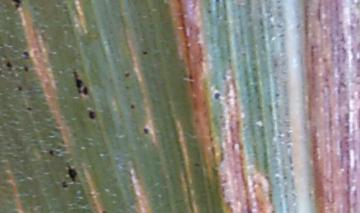tarspot: (69, 67, 84, 98), (65, 162, 78, 183), (9, 1, 24, 11), (87, 108, 97, 122), (19, 50, 32, 59), (211, 90, 221, 101), (142, 125, 150, 137), (81, 85, 89, 97), (124, 70, 132, 80), (60, 179, 68, 189), (22, 63, 30, 72), (3, 61, 13, 68), (193, 161, 201, 168), (128, 102, 135, 110), (15, 85, 23, 92), (25, 105, 33, 112), (47, 149, 55, 156), (141, 49, 148, 56), (125, 84, 131, 90), (99, 209, 107, 213)
